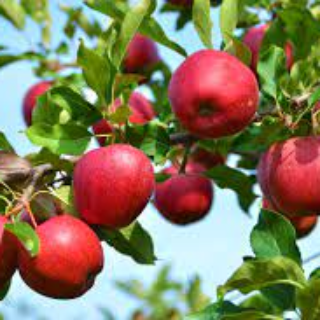tao: (167, 47, 264, 142), (68, 140, 157, 233), (15, 213, 106, 302)
